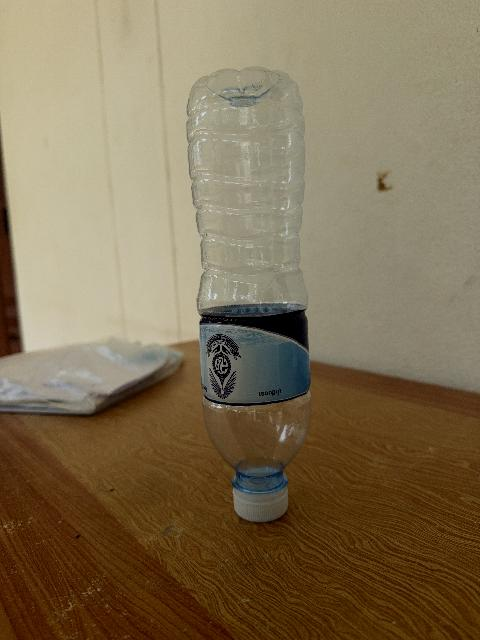bottle: (187, 68, 310, 521)
